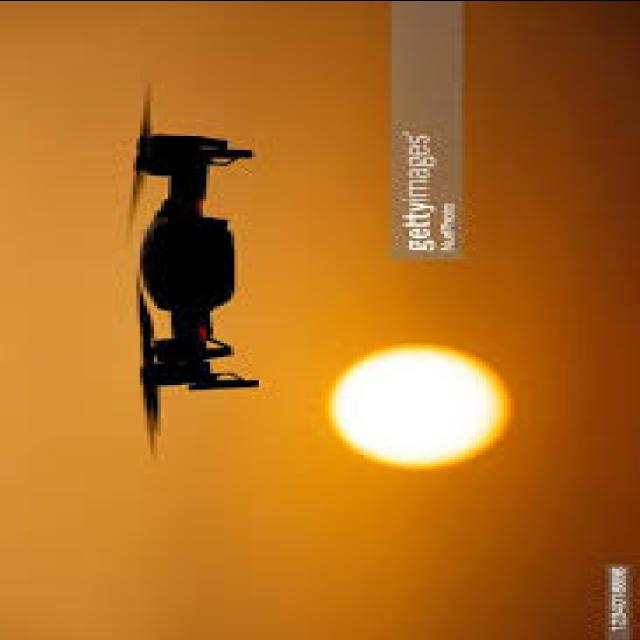drone: (100, 70, 284, 464)
